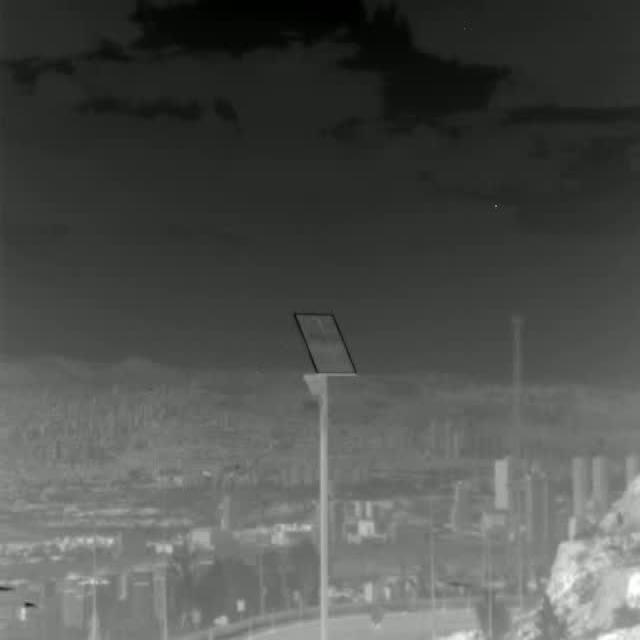Motorcycle: (370, 600, 386, 629)
